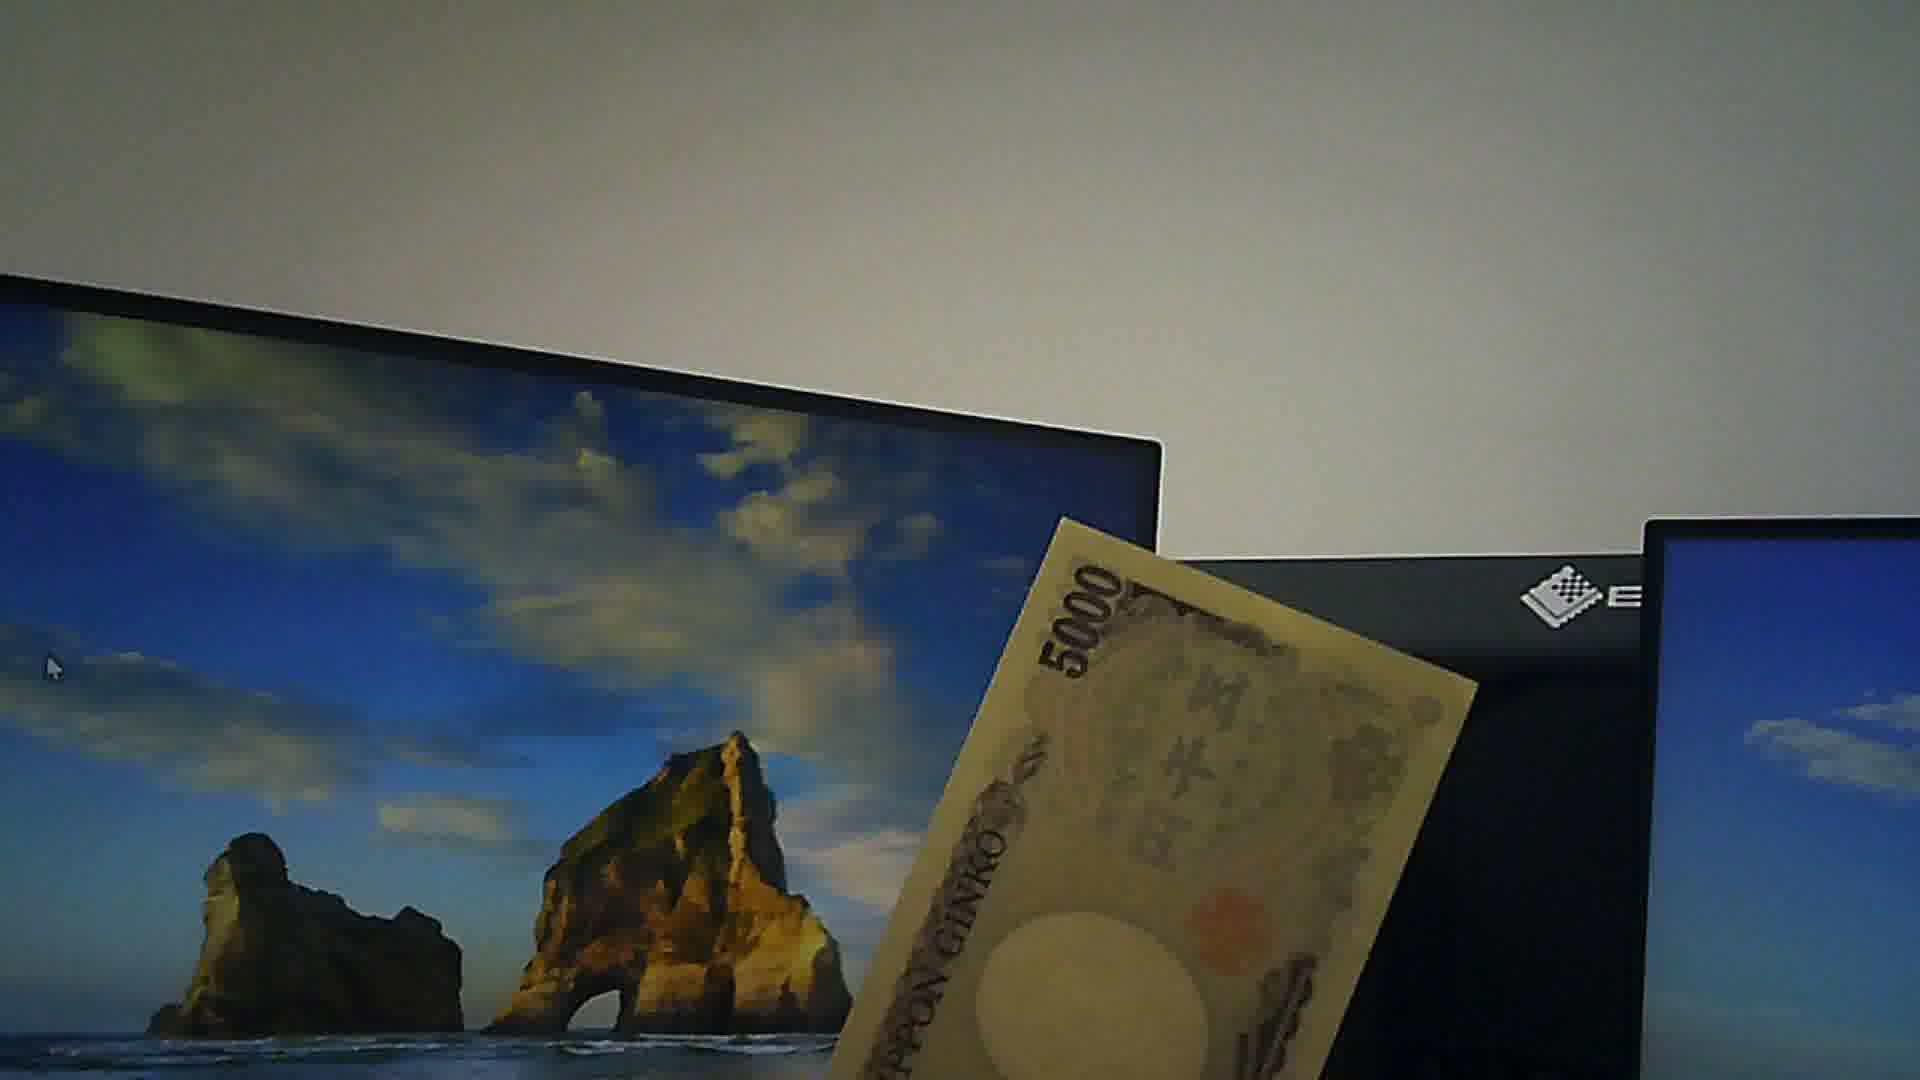5,000 Yen: (860, 497, 1462, 1065)
